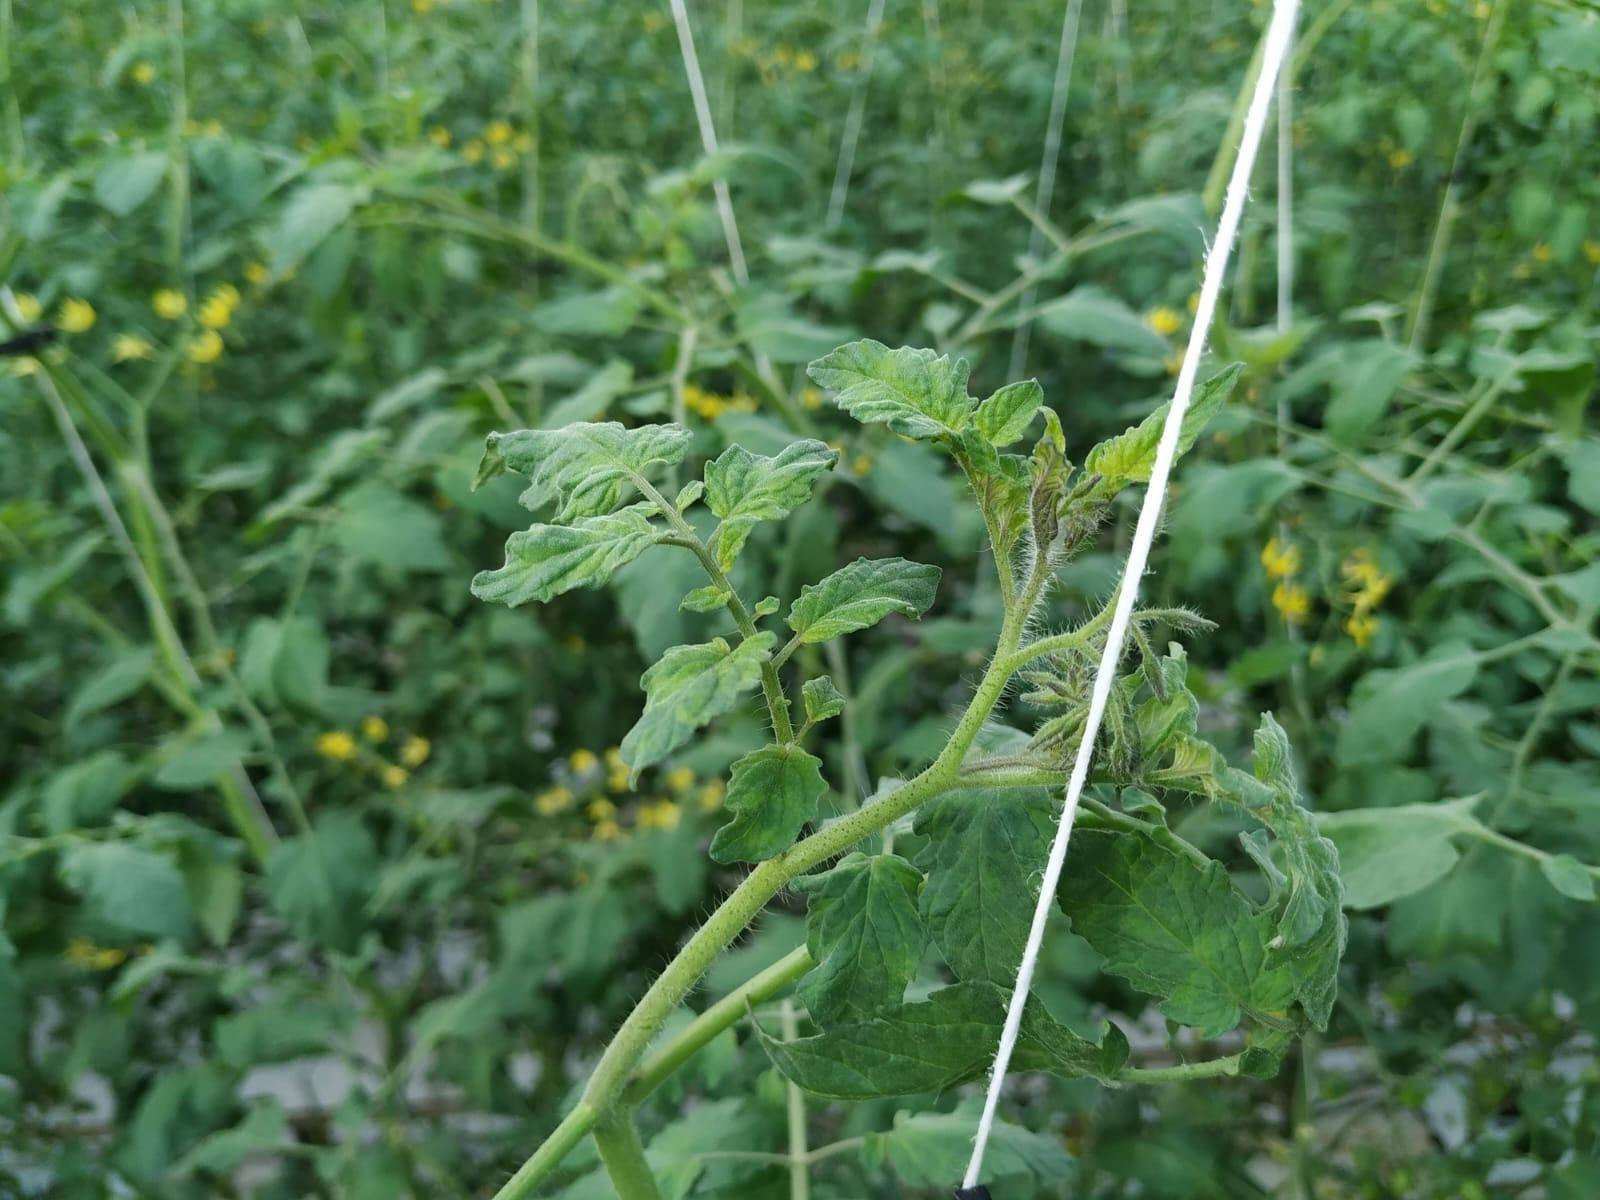Rugose leaf: (622, 632, 775, 775), (470, 500, 663, 605), (709, 744, 828, 862), (787, 560, 941, 644), (707, 441, 838, 522), (1085, 403, 1169, 484), (1175, 363, 1243, 459), (971, 378, 1043, 447)
Rugose stem: (585, 765, 954, 1113), (935, 575, 1049, 775)
